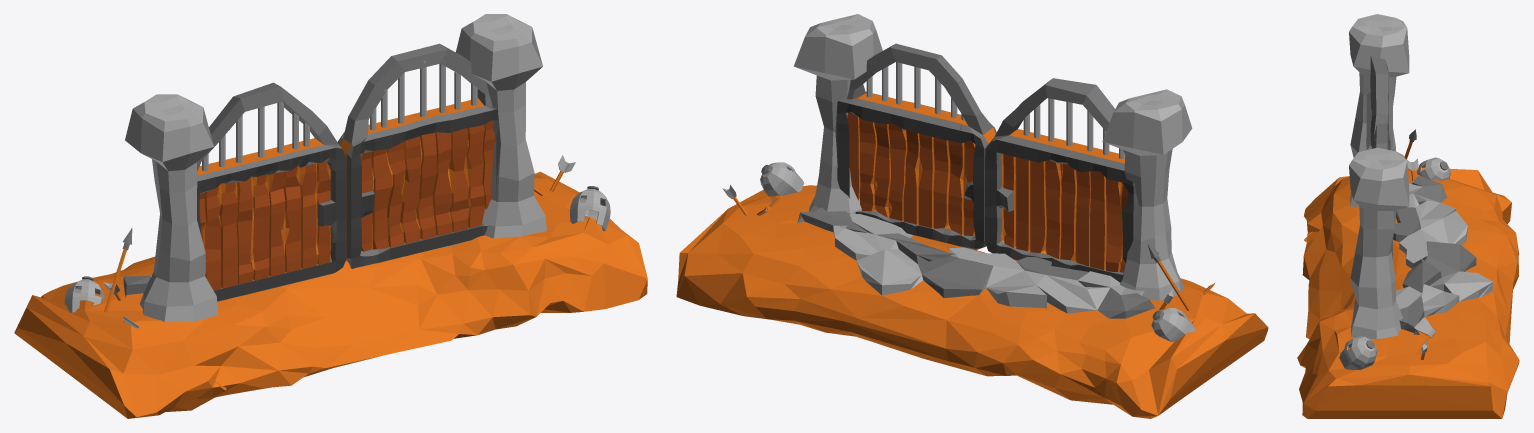
File: Puerta.fbx
3 renders of one model, left to right at view 1: azimuth 30°, elevation 25°; view 2: azimuth 150°, elevation 25°; view 3: azimuth 270°, elevation 25°, orthographic. The views are drawn at different scales.
Visible parts, largest first — view 1: Cube; view 2: Cube; view 3: Cube.
Part boxes in pixels (x1,y1,x2,y2): Cube: (14,14,647,418); Cube: (676,14,1268,418); Cube: (1297,14,1519,418).
Bounding box in the file's own units: 1824 × 799 × 933.
